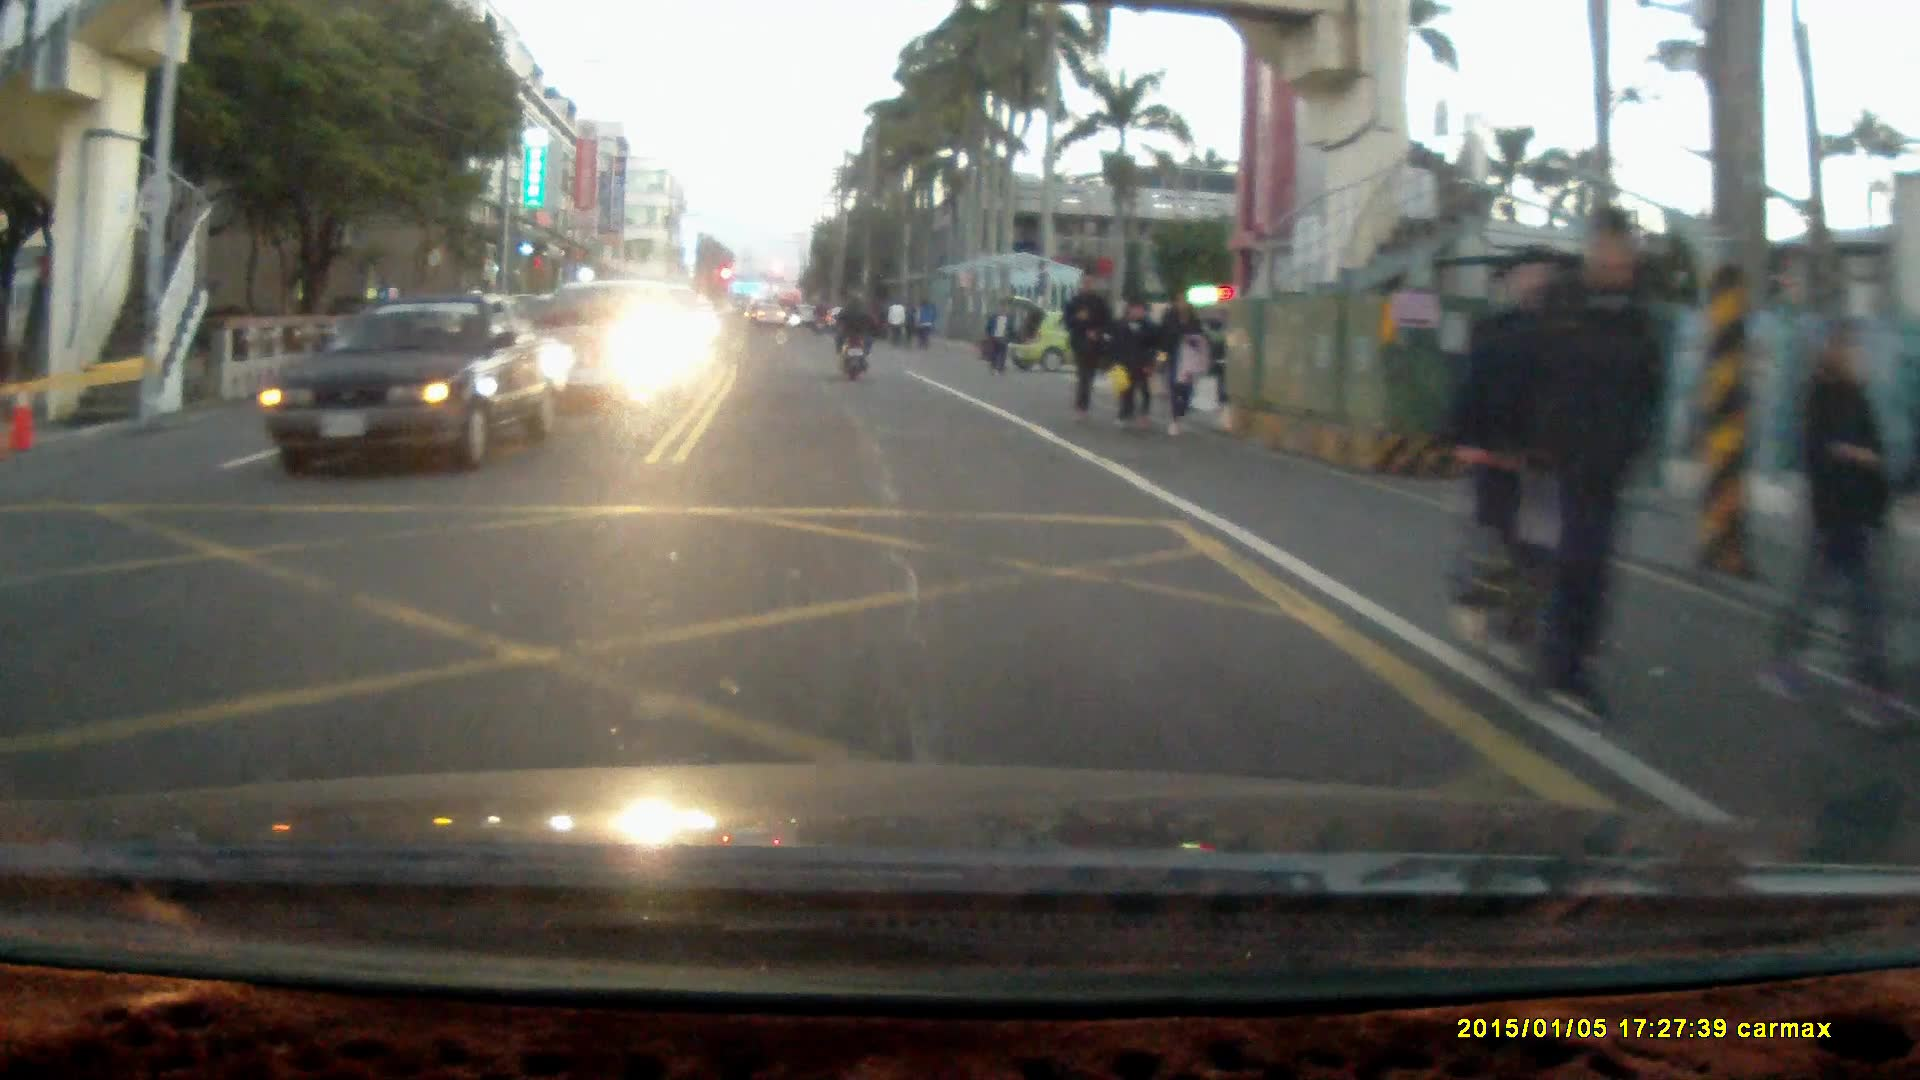pedestrian: (1487, 202, 1658, 729), (1757, 311, 1896, 723), (1450, 243, 1580, 678), (1061, 268, 1113, 427), (1155, 286, 1208, 434), (1108, 297, 1161, 427), (983, 298, 1012, 376)
rider: (831, 287, 873, 380)
vehicle: (257, 296, 571, 470), (521, 279, 694, 408), (998, 302, 1156, 374)
